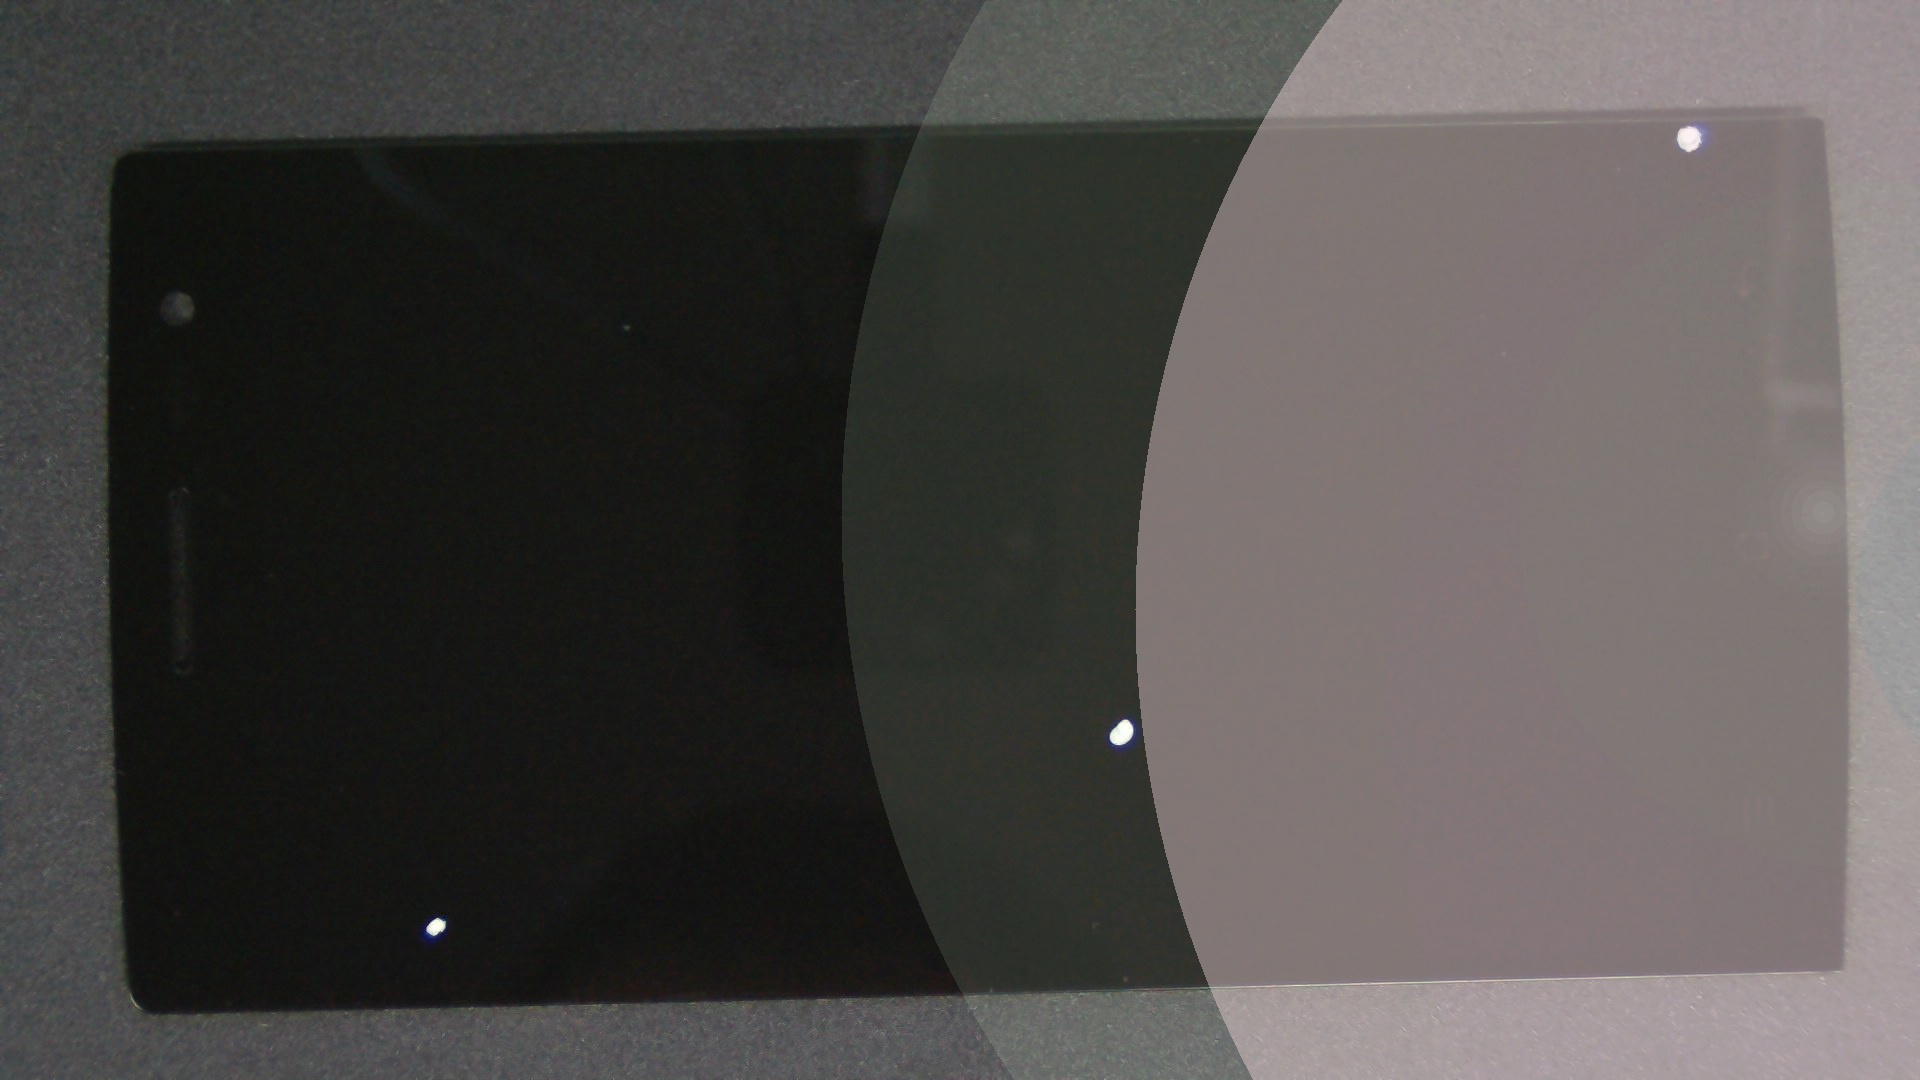oil: (563, 359, 1685, 1077), (219, 456, 649, 1080), (844, 62, 1920, 186)
